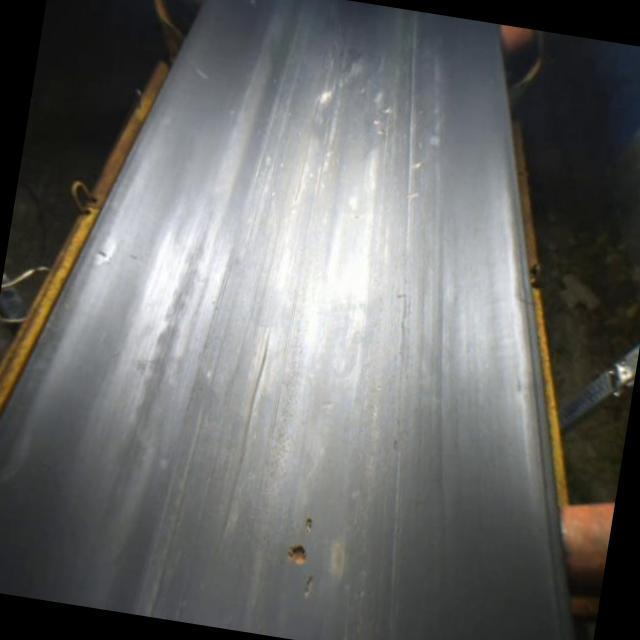Hole: (286, 544, 308, 568)
Puncture: (302, 574, 316, 599), (303, 518, 313, 536)
Tear: (218, 325, 280, 535)
